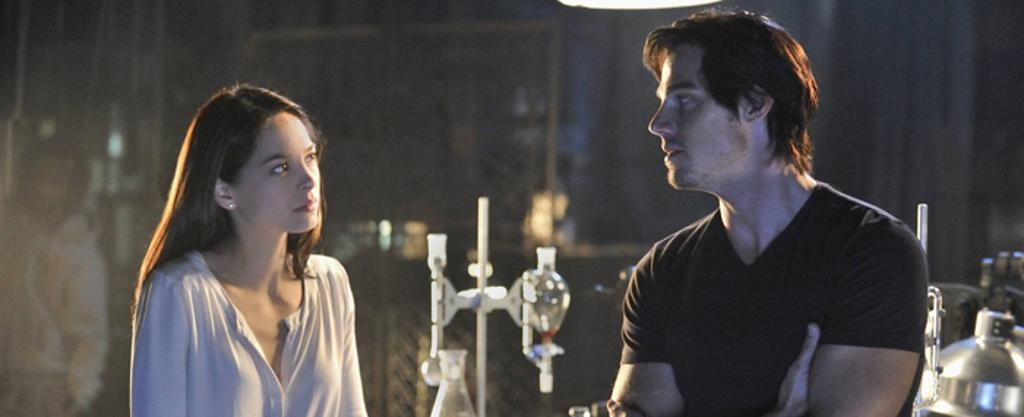face: (648, 44, 730, 194), (240, 116, 322, 236)
